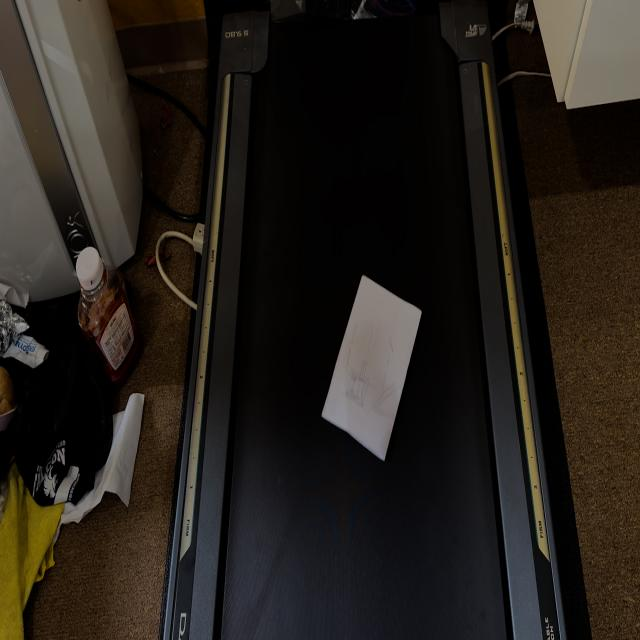Recycle: (319, 272, 425, 468)
